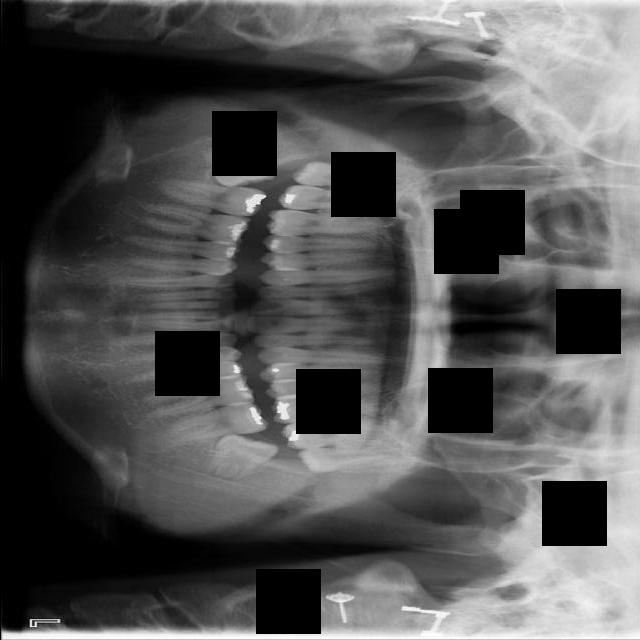3M ESPE Implant: (290, 161, 392, 190)
52: (215, 392, 270, 445), (214, 179, 267, 223), (200, 207, 251, 250), (207, 370, 257, 413), (267, 391, 314, 428), (280, 422, 325, 450), (277, 185, 326, 210), (199, 238, 241, 264), (258, 362, 302, 384), (260, 234, 302, 254), (209, 359, 243, 381)
73: (66, 598, 86, 598)
BioHorizons Implant: (279, 421, 408, 450)
BioLife Implant: (296, 446, 405, 475)
Biomet 3i Implant: (203, 428, 280, 491)
Blue Sky Bio Implant: (165, 398, 270, 444)
Caries: (277, 185, 392, 210)
Implant: (157, 178, 267, 219)
Keystone Dental Implant: (205, 138, 276, 192)
